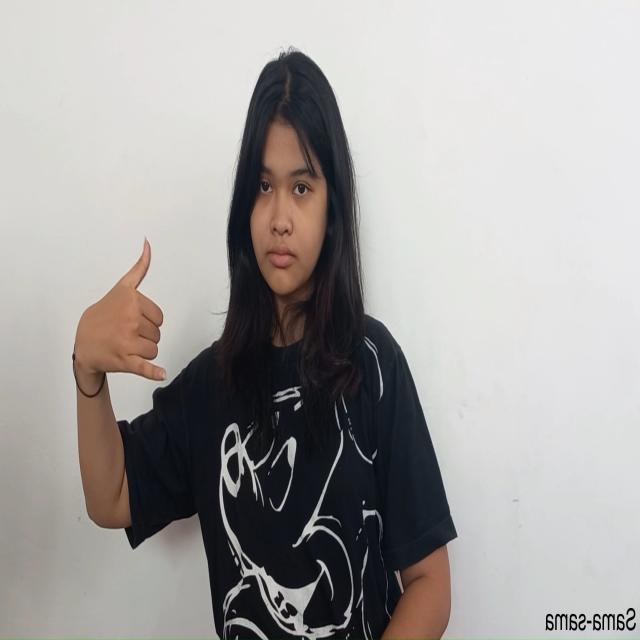Sama-sama -BISINDO-: (70, 232, 168, 404)
